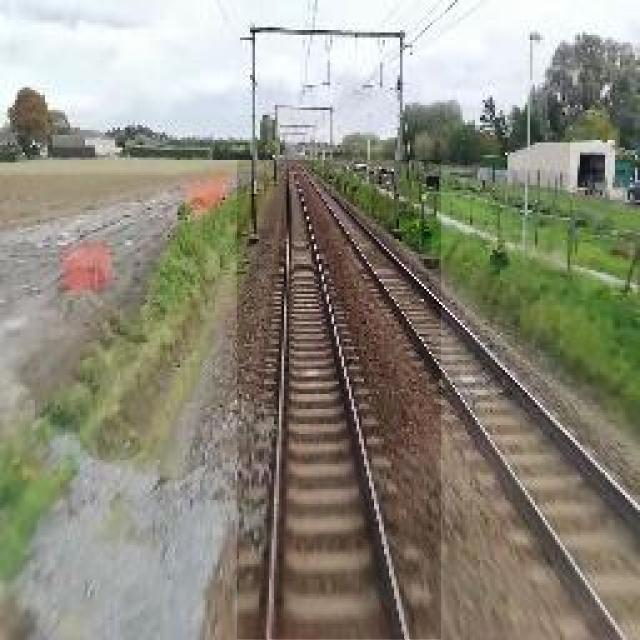rail: (238, 161, 442, 640)
